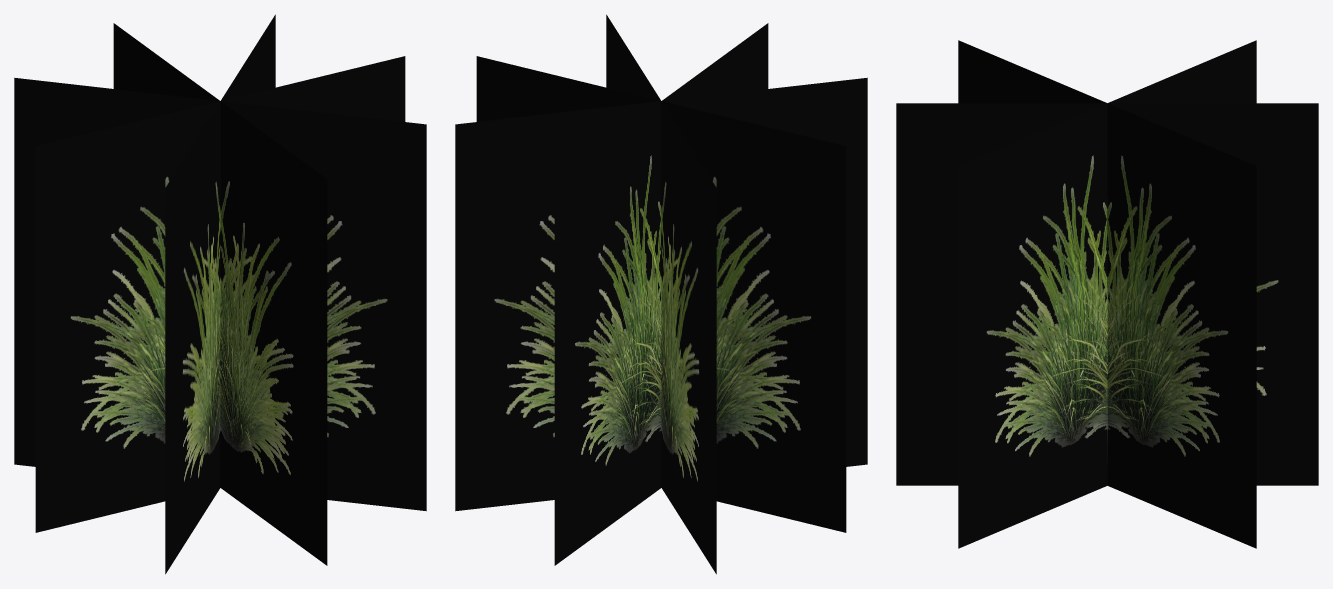
File: test_grass2 1.fbx
3 renders of one model, left to right at view 1: azimuth 30°, elevation 25°; view 2: azimuth 150°, elevation 25°; view 3: azimuth 270°, elevation 25°, orthographic.
Parts seen in each view (by area): view 1: Plane; view 2: Plane; view 3: Plane.
Boxes of the visible parts, <box> form: Plane: <box>14,14,426,574</box>; Plane: <box>455,14,867,574</box>; Plane: <box>896,40,1318,548</box>.
Size of the model in its own units: 200 by 200 by 200.
